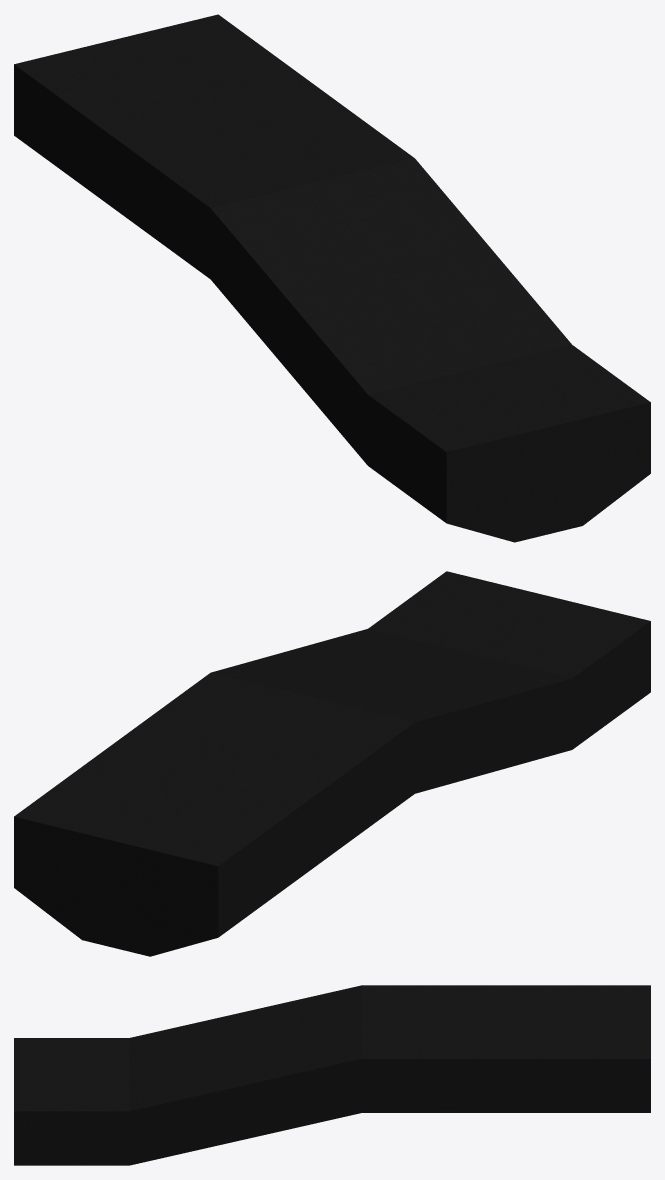
File: map1.obj
3 views of the same model, one above another, from view 1: azimuth 30°, elevation 25°; view 2: azimuth 150°, elevation 25°; view 3: azimuth 270°, elevation 25° (orthographic). The views are drawn at different scales.
Visible parts, largest first — view 1: Cube; view 2: Cube; view 3: Cube.
Part boxes in pixels (box(x1,y1,x2,y2)): Cube: box(14, 14, 650, 542); Cube: box(14, 571, 650, 956); Cube: box(14, 985, 650, 1165).
Bounding box in the file's own units: 30 × 25 × 110.
Materials: 1 (1 with a texture image).
